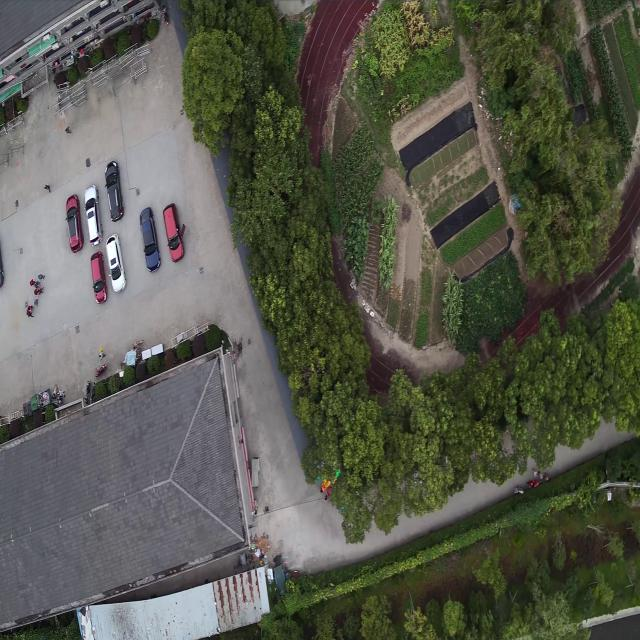UAV: (277, 548, 297, 573)
